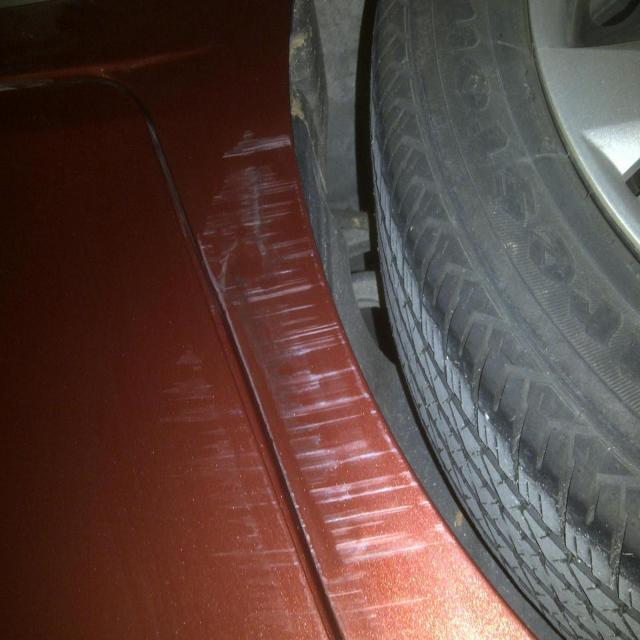scratch: (146, 108, 507, 634)
